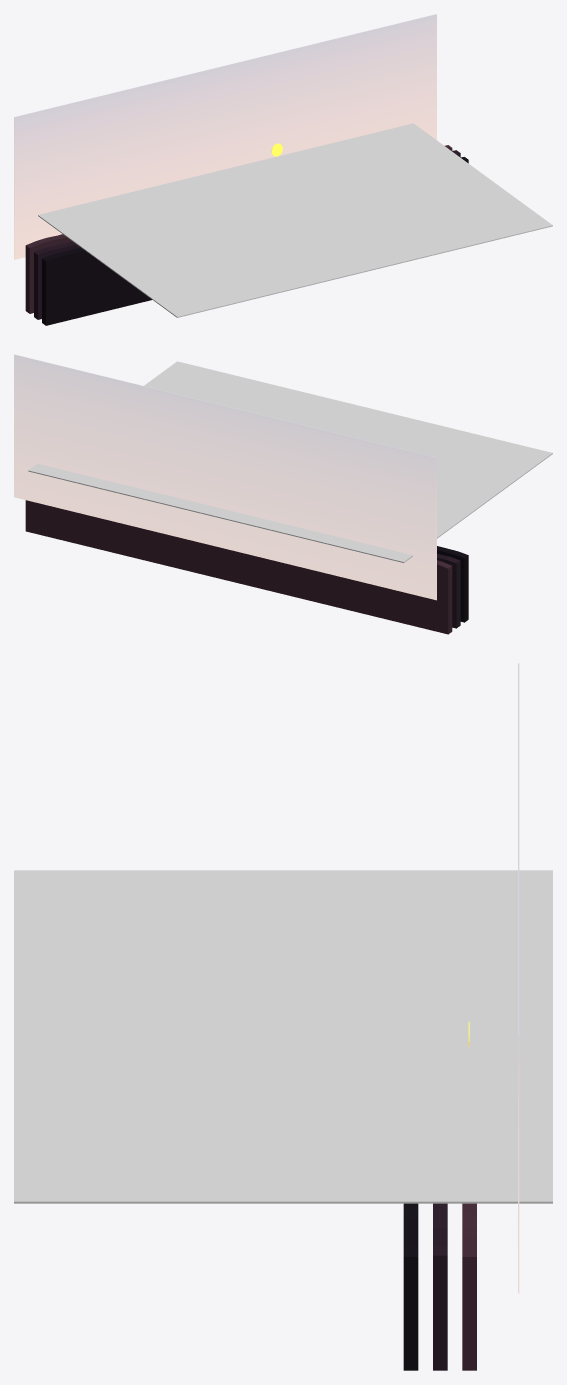
The model's file is harvestmoon.glb.
3 renders of one model, top to bottom at view 1: azimuth 30°, elevation 25°; view 2: azimuth 150°, elevation 25°; view 3: azimuth 270°, elevation 25°, orthographic. The views are drawn at different scales.
Parts seen in each view (by area): view 1: Ground contact / transparent shadow receiver.009, Sky gradient / editable material.009, World / terrain and architecture.007; view 2: Sky gradient / editable material.009, Ground contact / transparent shadow receiver.009, World / terrain and architecture.007; view 3: Ground contact / transparent shadow receiver.009, World / terrain and architecture.007, Sky gradient / editable material.009.
Part boxes in pixels (bbox=[...]): Ground contact / transparent shadow receiver.009: bbox=[38, 123, 552, 317]; Sky gradient / editable material.009: bbox=[14, 14, 436, 259]; World / terrain and architecture.007: bbox=[25, 145, 468, 325]; Sky gradient / editable material.009: bbox=[14, 354, 436, 600]; Ground contact / transparent shadow receiver.009: bbox=[28, 361, 552, 562]; World / terrain and architecture.007: bbox=[25, 500, 468, 634]; Ground contact / transparent shadow receiver.009: bbox=[14, 870, 552, 1203]; World / terrain and architecture.007: bbox=[403, 1203, 476, 1370]; Sky gradient / editable material.009: bbox=[518, 663, 519, 1293].
Bounding box in the file's own units: 180 × 75.4 × 110.
